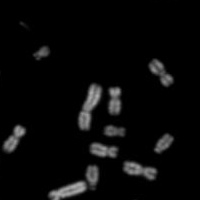chromosome: (77, 83, 102, 131), (47, 180, 88, 200), (121, 160, 156, 181), (149, 58, 173, 87), (2, 124, 25, 153), (88, 142, 118, 160), (107, 86, 123, 117), (154, 133, 174, 154), (86, 164, 99, 190), (33, 45, 48, 62), (104, 125, 126, 136), (127, 199, 153, 200), (152, 0, 174, 1), (0, 198, 8, 200)
